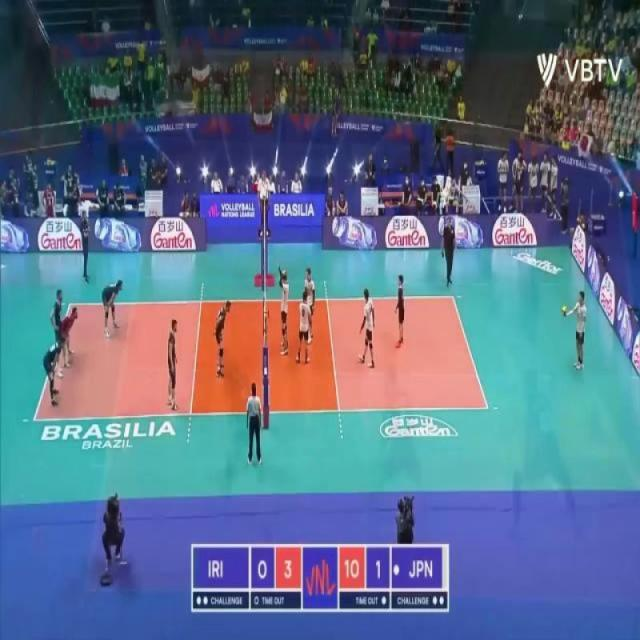volleyball: (562, 306, 568, 316)
